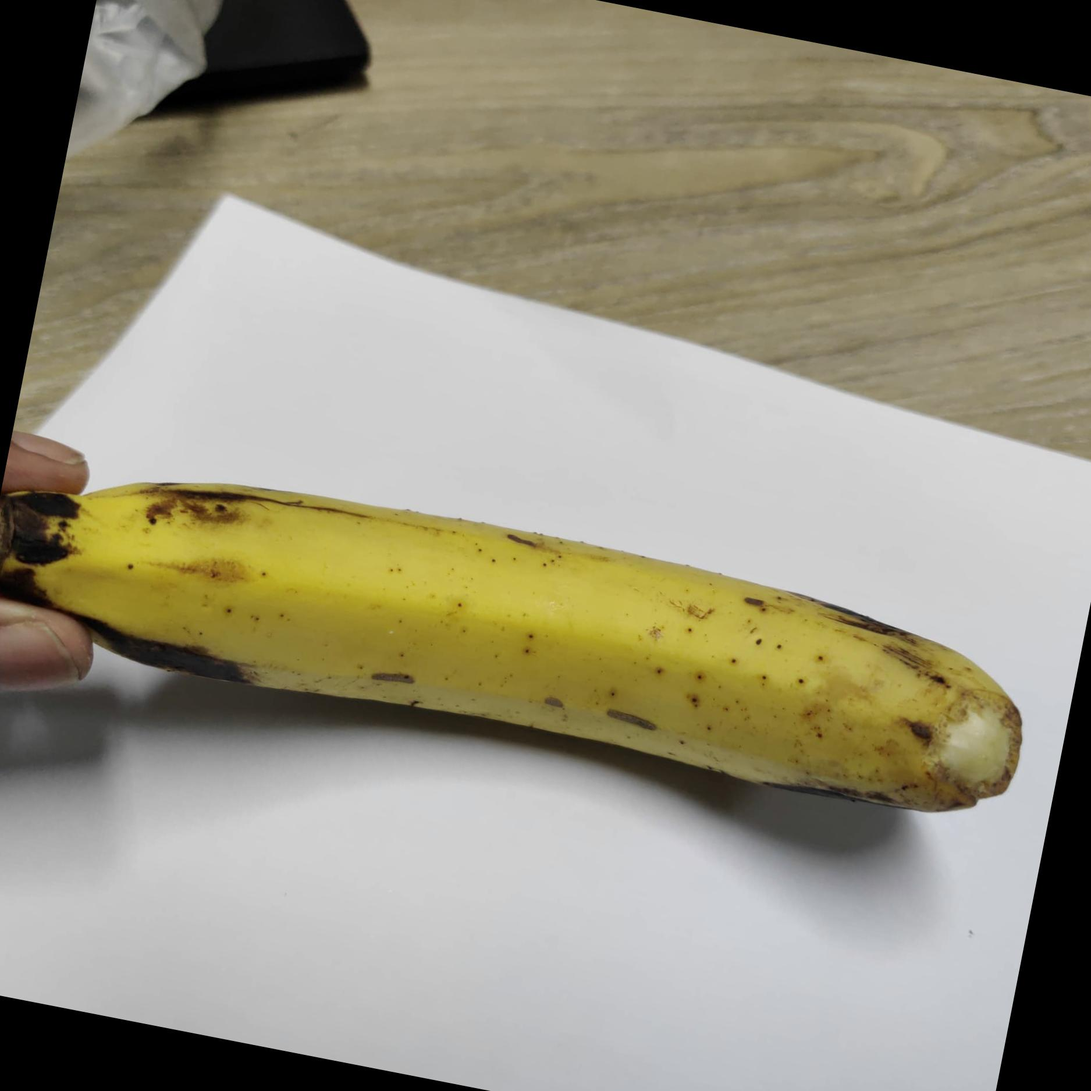Banana Ripe: (5, 402, 1070, 899)
